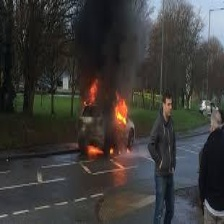fire: (81, 79, 132, 158)
smoke: (75, 1, 151, 74)
